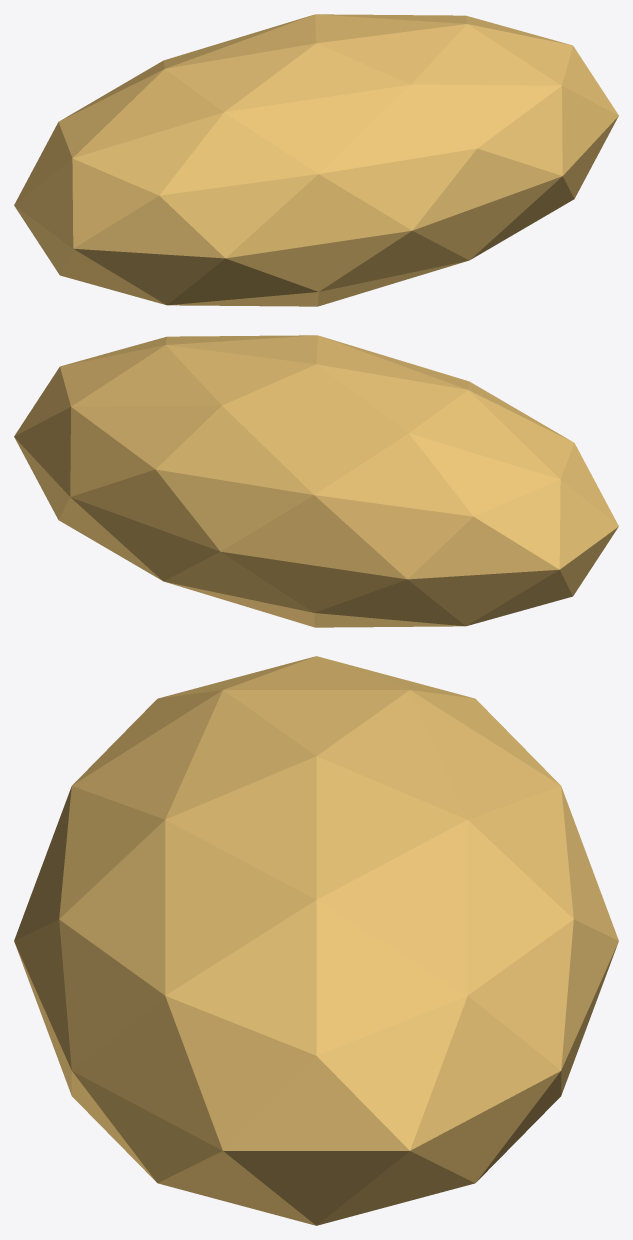
The model's file is PopcornKernal.fbx.
3 views of the same model, one above another, from view 1: azimuth 30°, elevation 25°; view 2: azimuth 150°, elevation 25°; view 3: azimuth 270°, elevation 25° (orthographic). The views are drawn at different scales.
Visible parts, largest first — view 1: Icosphere; view 2: Icosphere; view 3: Icosphere.
Part boxes in pixels (box(x1,y1,x2,y2)): Icosphere: box(14, 14, 618, 306); Icosphere: box(14, 335, 618, 627); Icosphere: box(14, 656, 618, 1225).
Bounding box in the file's own units: 83.31 × 34.19 × 50.73.
